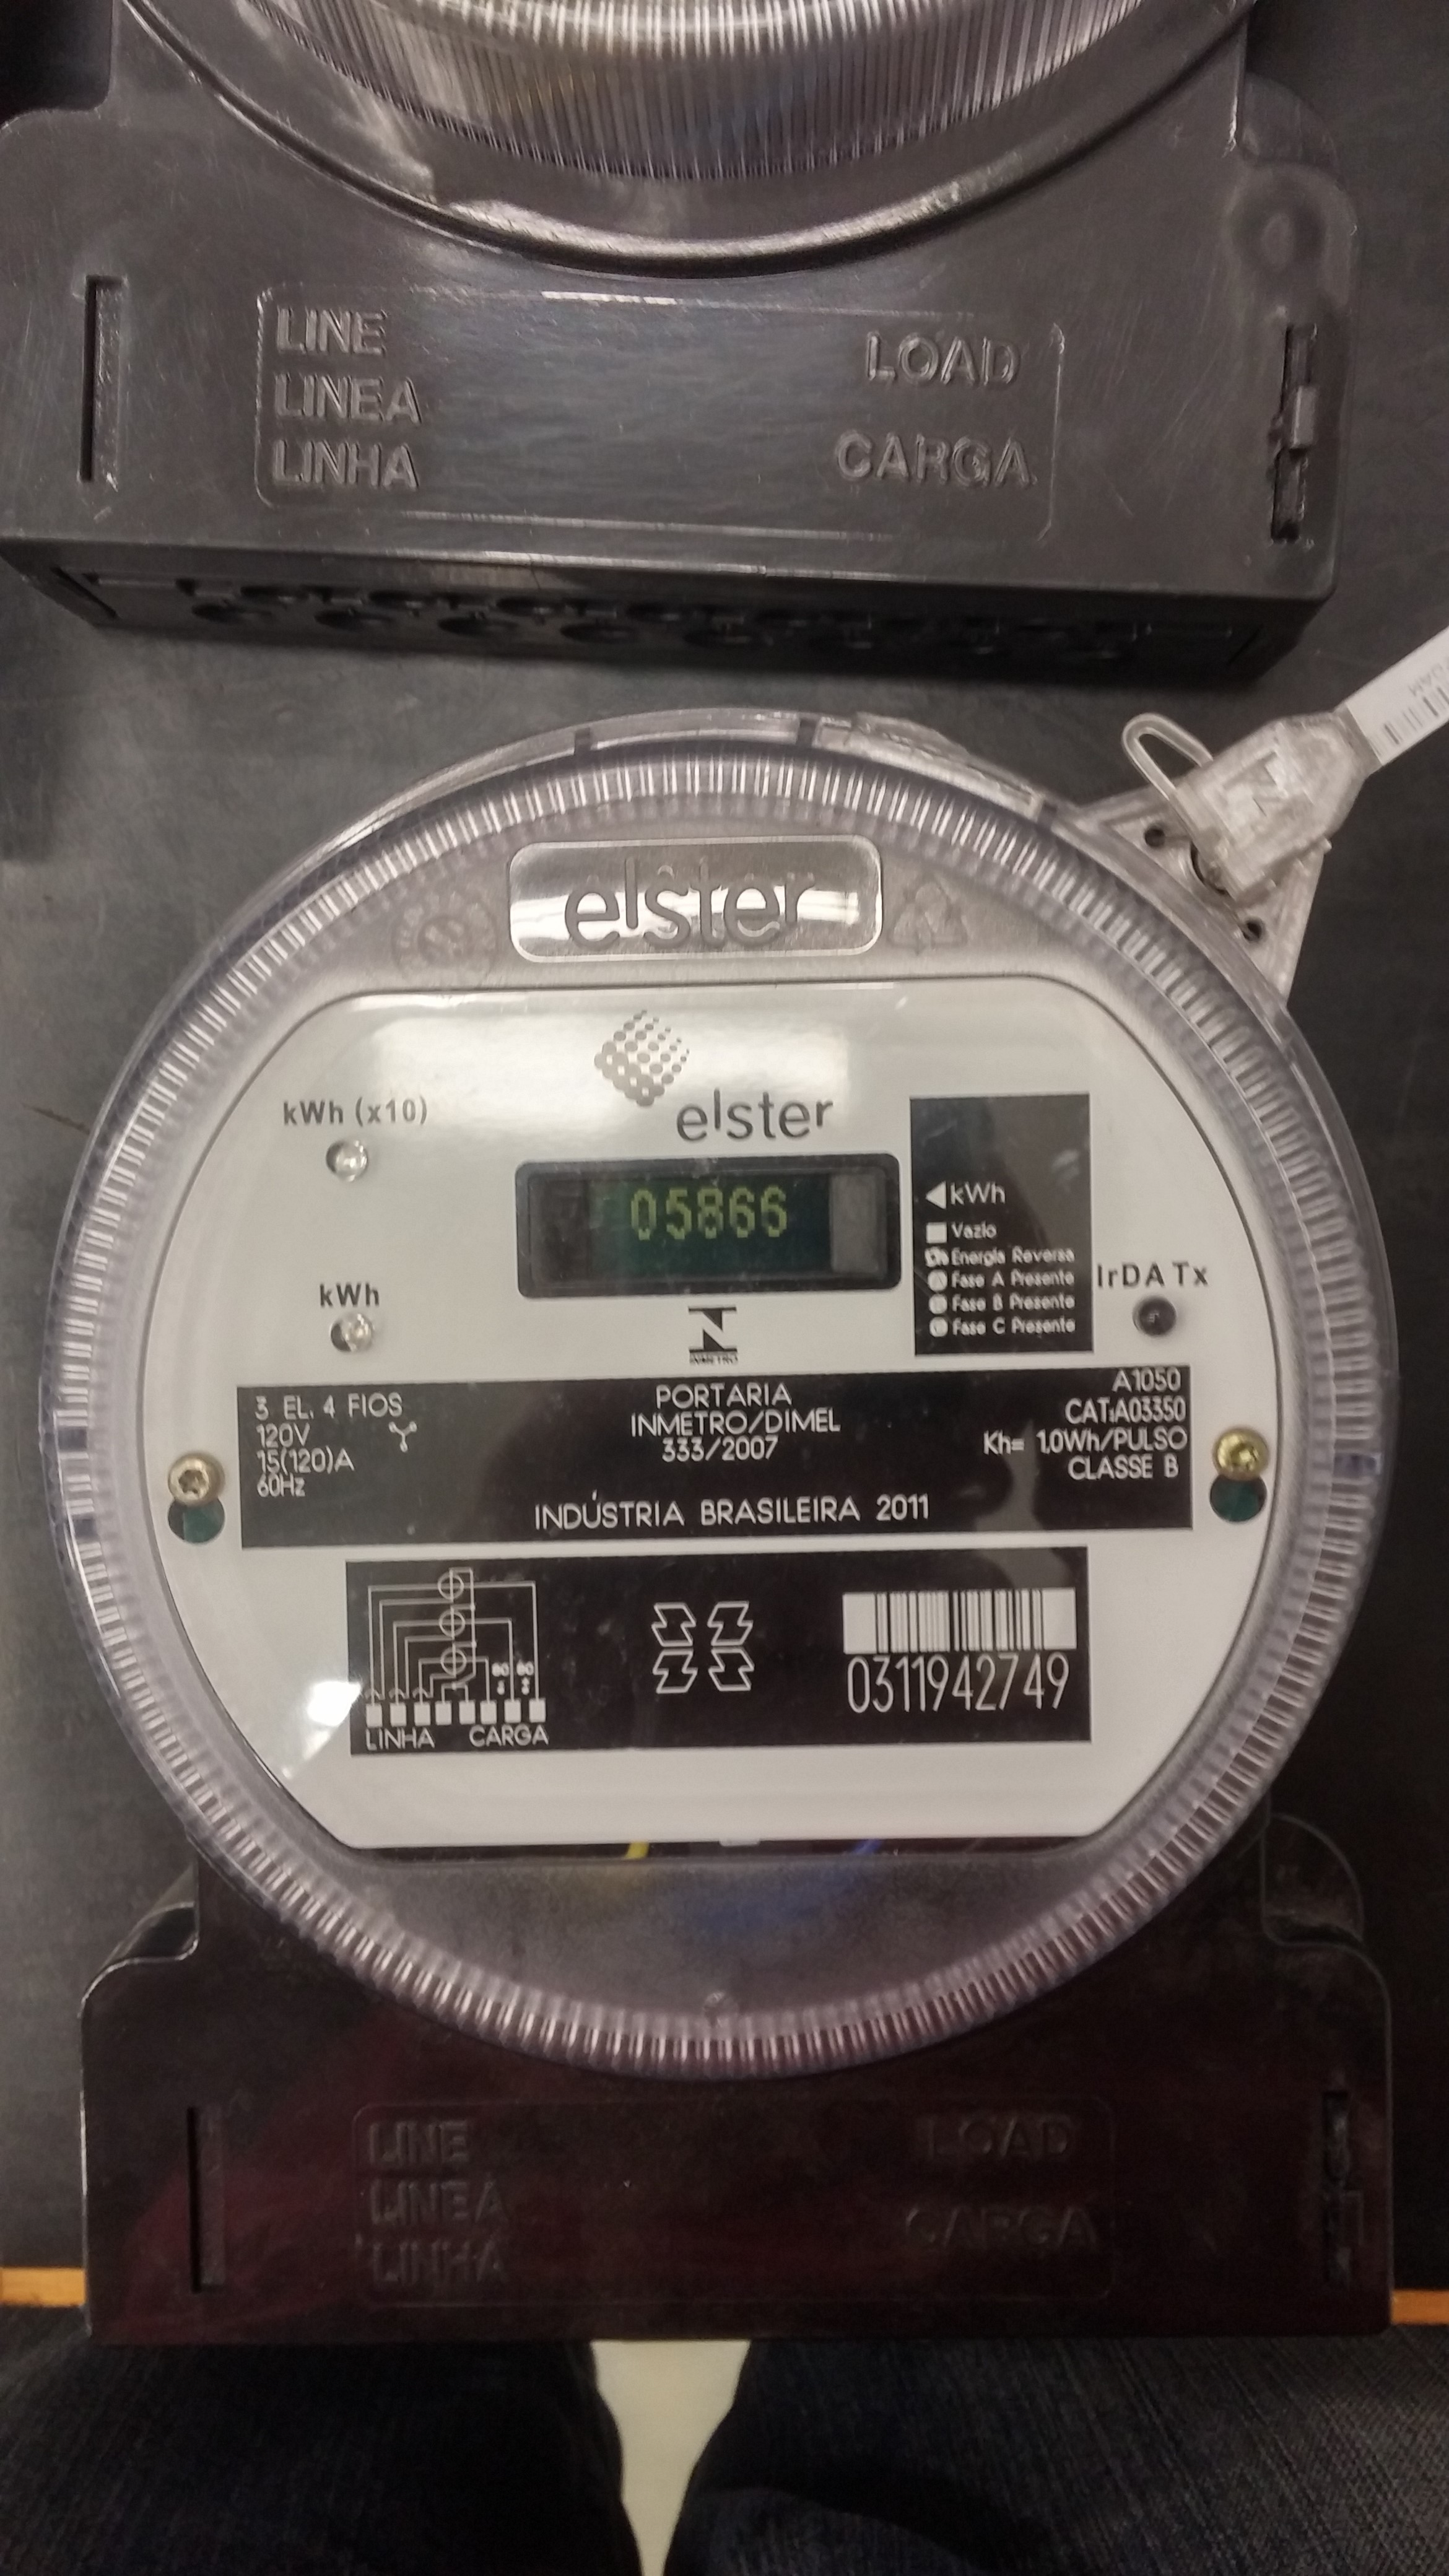counter: (506, 1148, 911, 1295)
